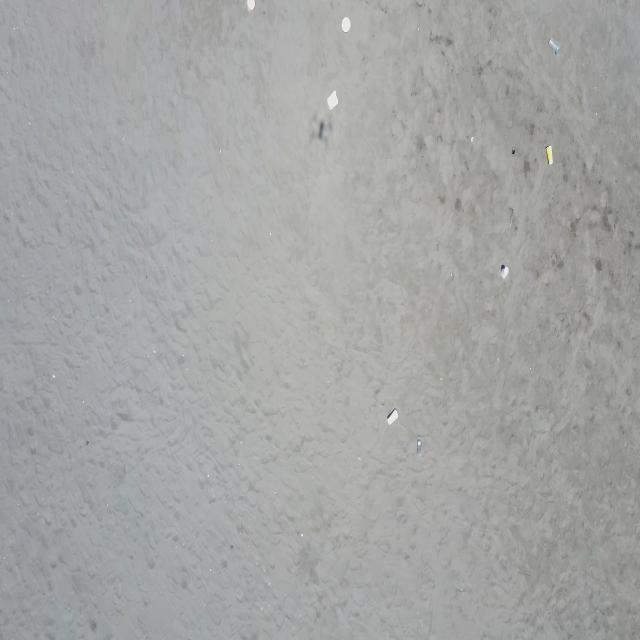take-away-containers: (327, 90, 339, 110), (341, 16, 351, 34), (246, 0, 256, 11)
takeaway-cup: (548, 38, 561, 54), (387, 409, 399, 425), (546, 145, 554, 165), (417, 436, 423, 456), (501, 266, 509, 279)
